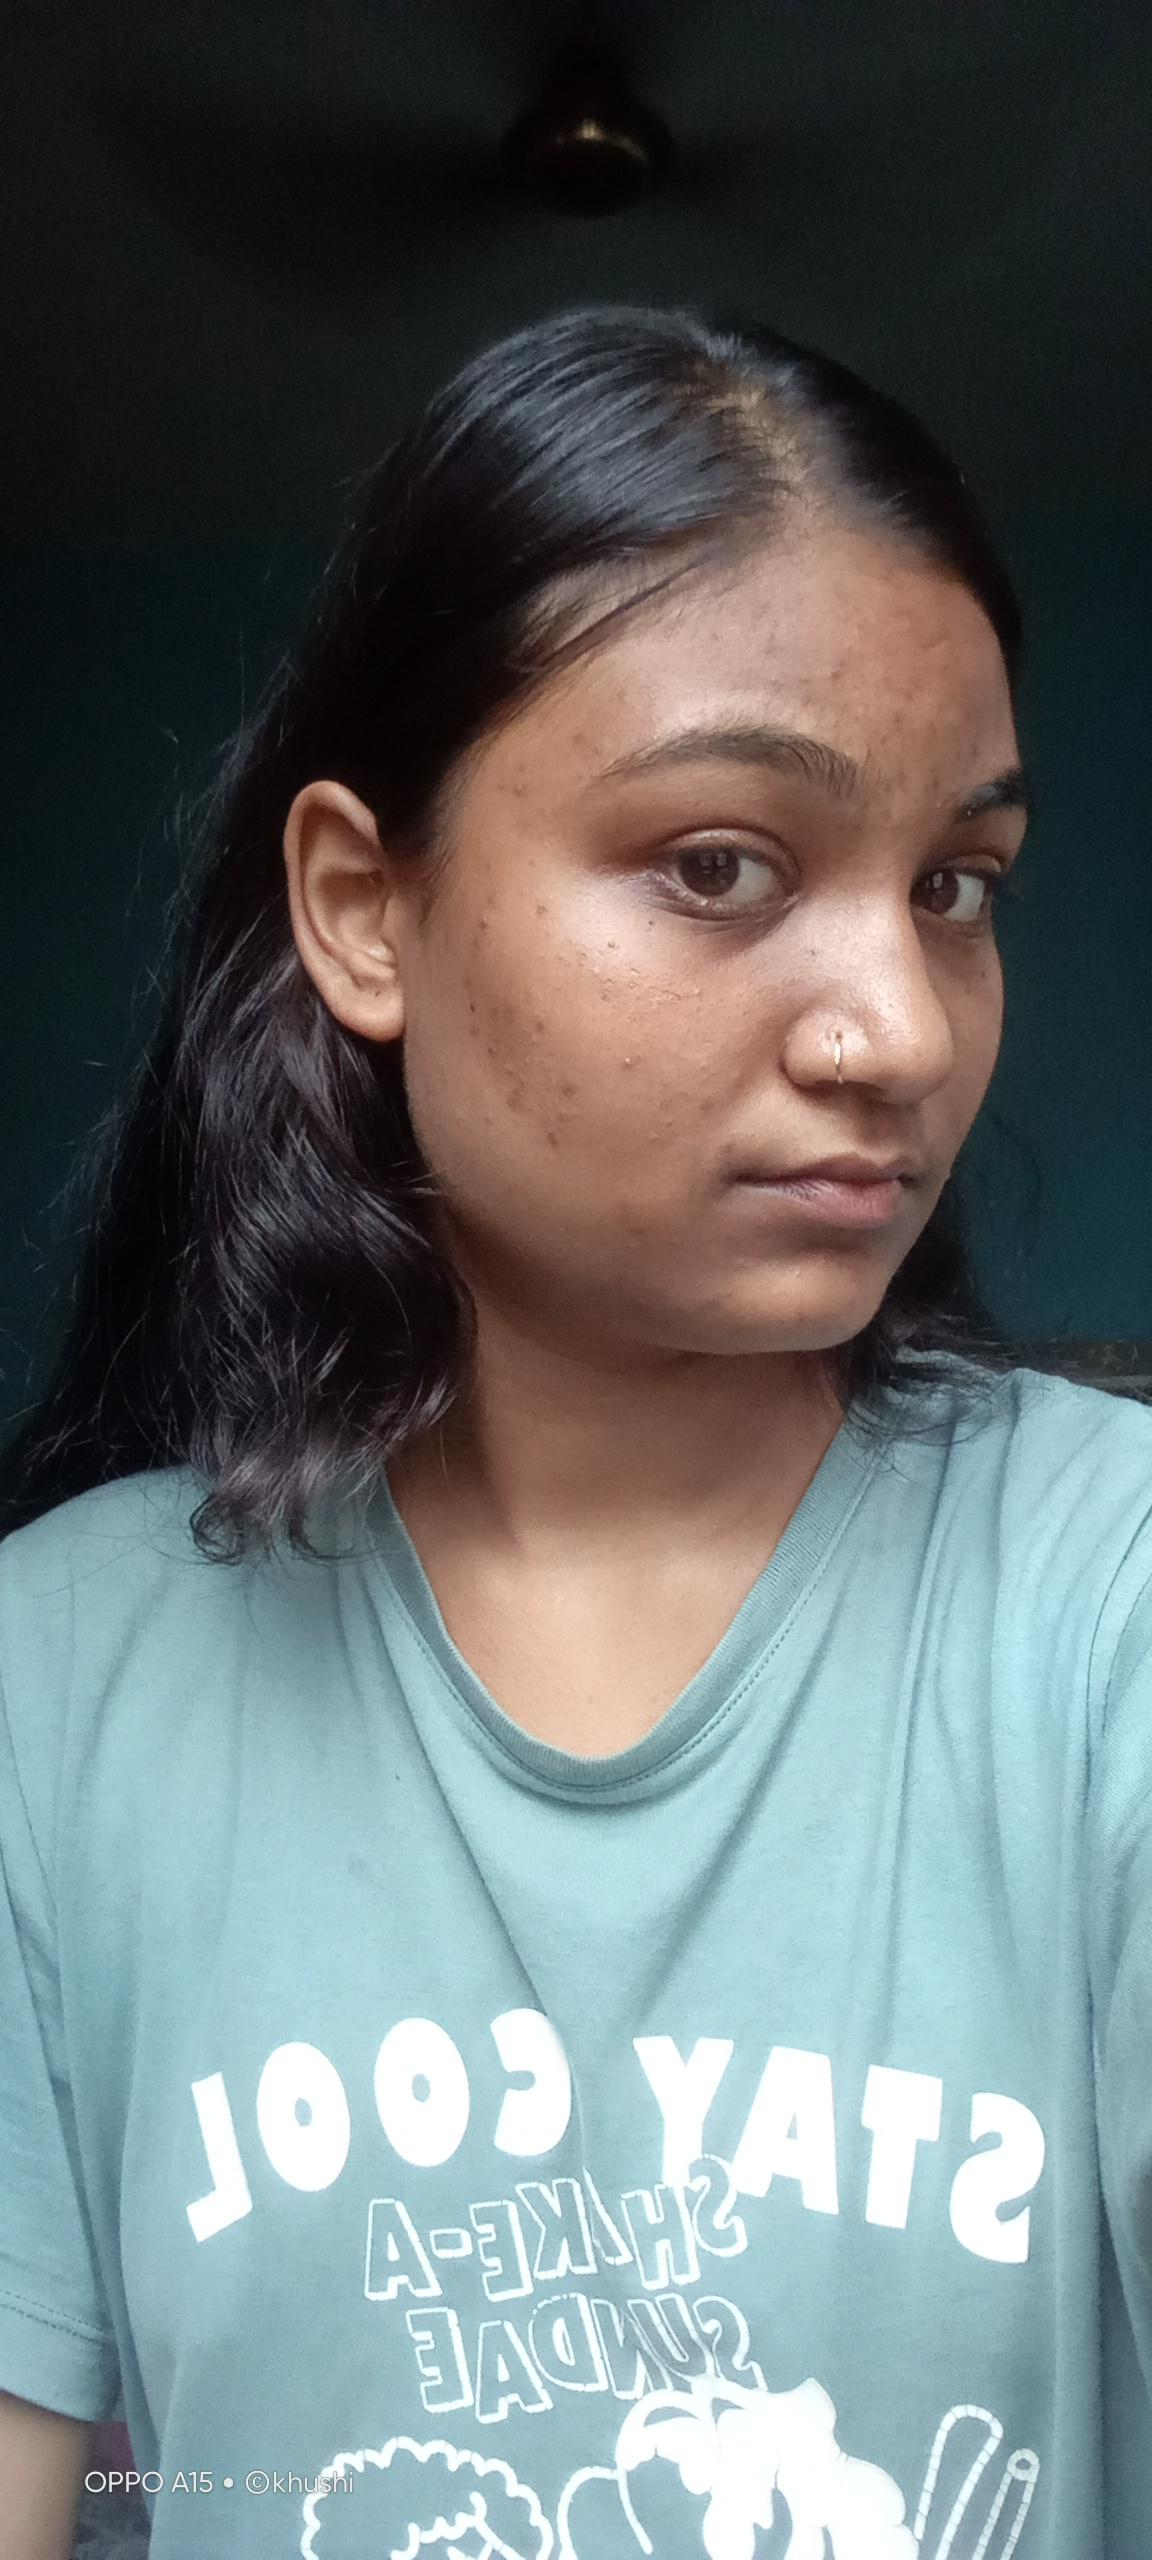Acne: (721, 1068, 752, 1097), (529, 1017, 556, 1047), (607, 681, 635, 710), (700, 624, 731, 650), (558, 1078, 586, 1105), (503, 1086, 532, 1112), (542, 1122, 565, 1151), (509, 774, 534, 800), (480, 883, 504, 909), (961, 741, 987, 766), (535, 896, 553, 929), (925, 771, 945, 800), (827, 653, 853, 674), (640, 1127, 666, 1148), (697, 1086, 716, 1112), (715, 1133, 734, 1159), (615, 1051, 638, 1073), (462, 996, 480, 1022), (586, 741, 609, 761), (889, 709, 906, 735), (501, 1058, 521, 1076), (569, 728, 586, 748), (475, 914, 491, 932), (961, 709, 976, 727)
